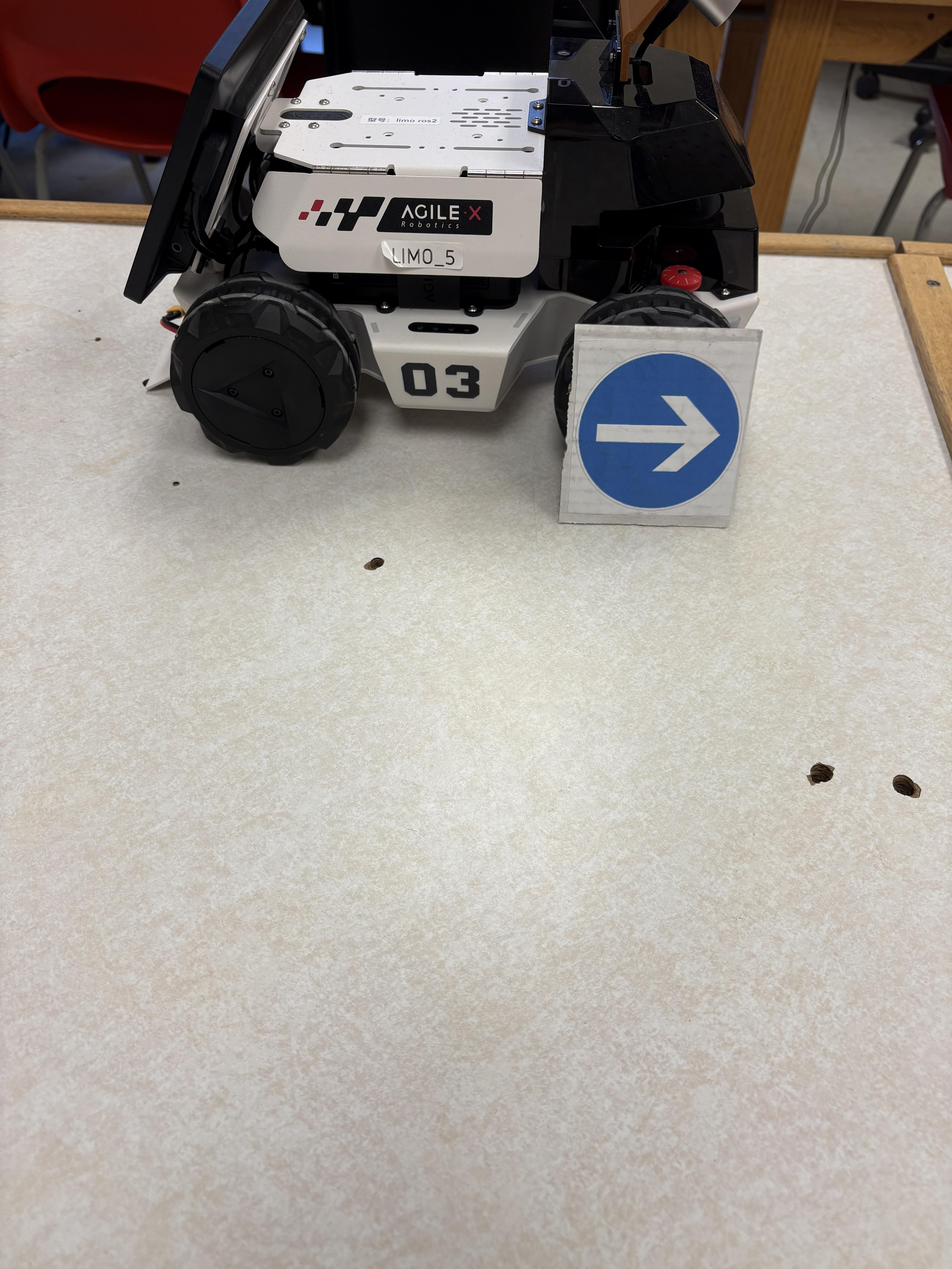Proceed Right: (420, 437, 570, 711)
